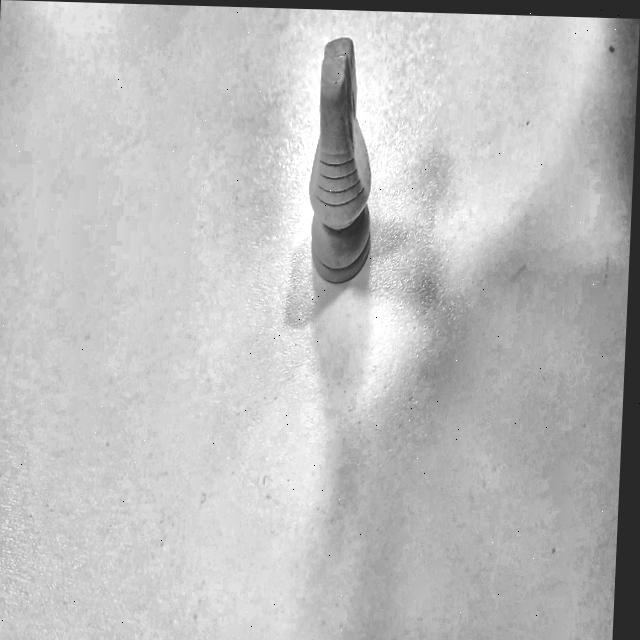white-knight: (287, 10, 402, 307)
